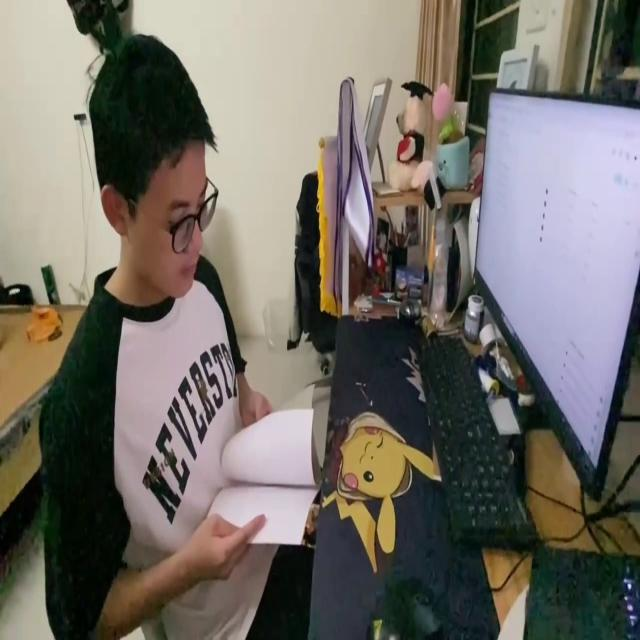book: (207, 400, 321, 554)
laptop: (469, 81, 640, 512)
student: (38, 26, 312, 640)
